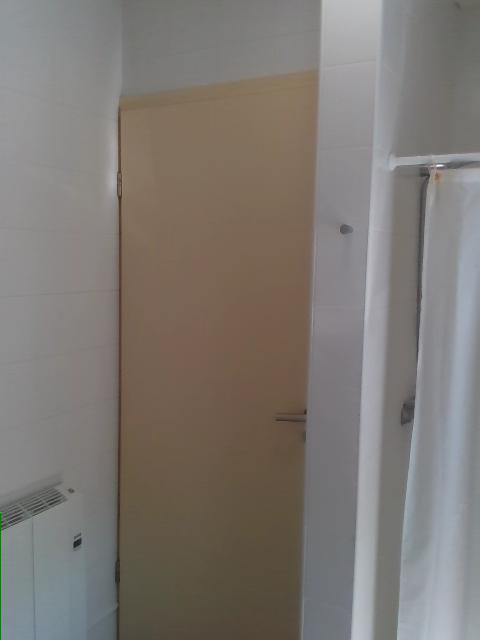door: (115, 68, 317, 636)
